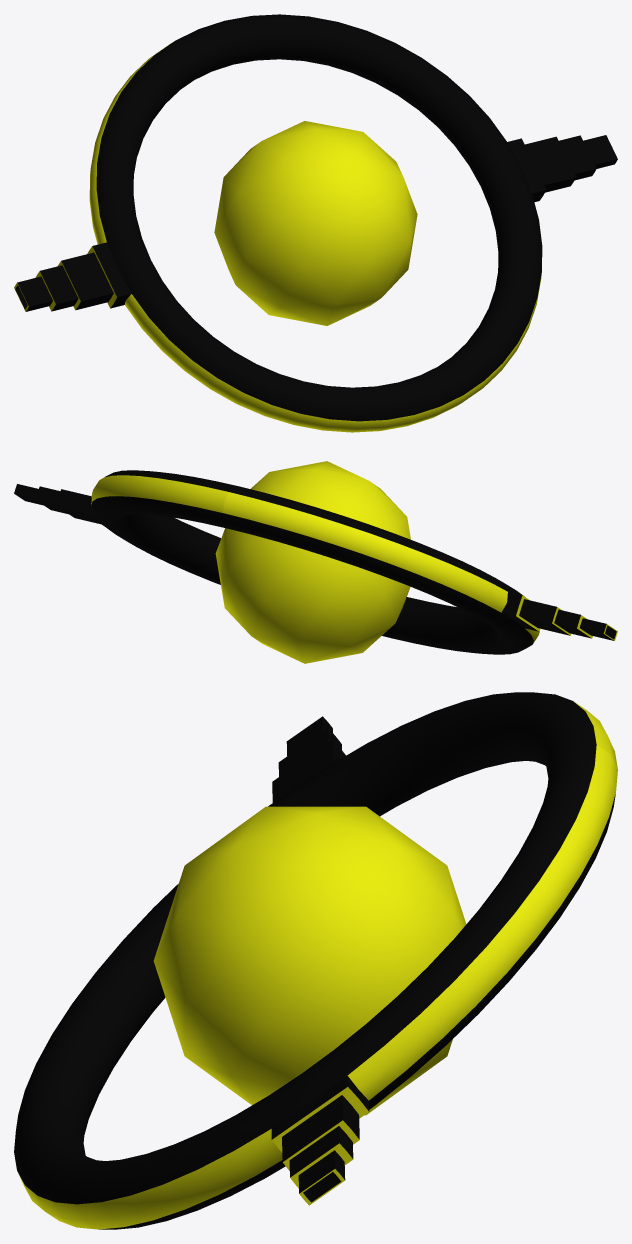
The model's file is Satellite.fbx.
3 views of the same model, one above another, from view 1: azimuth 30°, elevation 25°; view 2: azimuth 150°, elevation 25°; view 3: azimuth 270°, elevation 25° (orthographic). The views are drawn at different scales.
Parts seen in each view (by area): view 1: Torus.002; view 2: Torus.002; view 3: Torus.002.
Boxes of the visible parts, x1=… form: Torus.002: x1=14, y1=14, x2=617, y2=432; Torus.002: x1=14, y1=461, x2=617, y2=663; Torus.002: x1=14, y1=692, x2=617, y2=1229.
Bounding box in the file's own units: 366 × 164 × 206.
